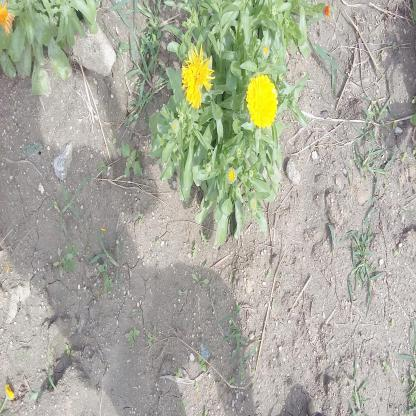marigold: (180, 44, 215, 109), (245, 74, 278, 129)
